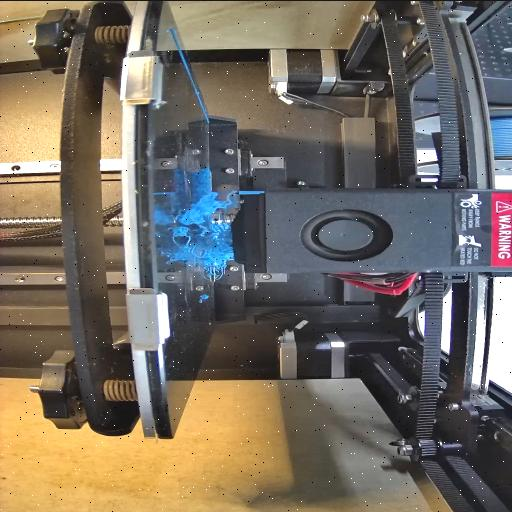spaghetti: (176, 190, 234, 278)
